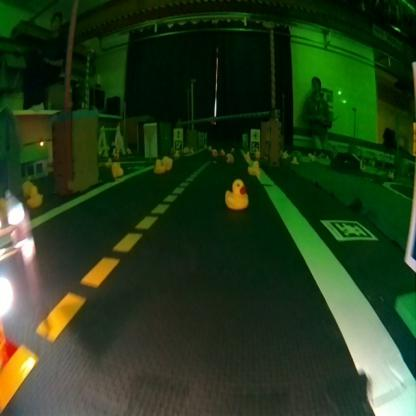Duckie: (224, 178, 248, 209), (26, 186, 42, 206), (247, 160, 259, 174), (22, 178, 31, 196), (112, 161, 121, 177), (154, 158, 164, 172), (162, 155, 172, 167), (225, 154, 233, 162), (254, 150, 260, 157), (244, 150, 249, 158), (105, 157, 110, 165), (291, 156, 297, 162), (211, 149, 216, 155), (219, 149, 224, 155)
Intersection sign: (250, 130, 258, 140)
QR code: (320, 218, 376, 240), (251, 141, 258, 151), (176, 140, 182, 148)
Signal sign: (174, 128, 182, 139)
